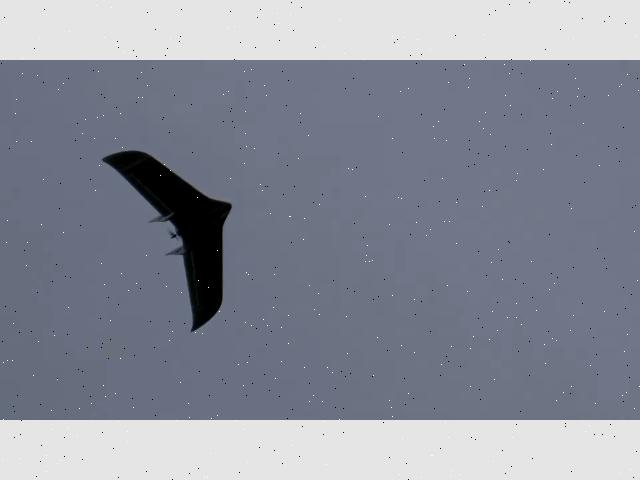Anti-Drone: (102, 149, 232, 332)
